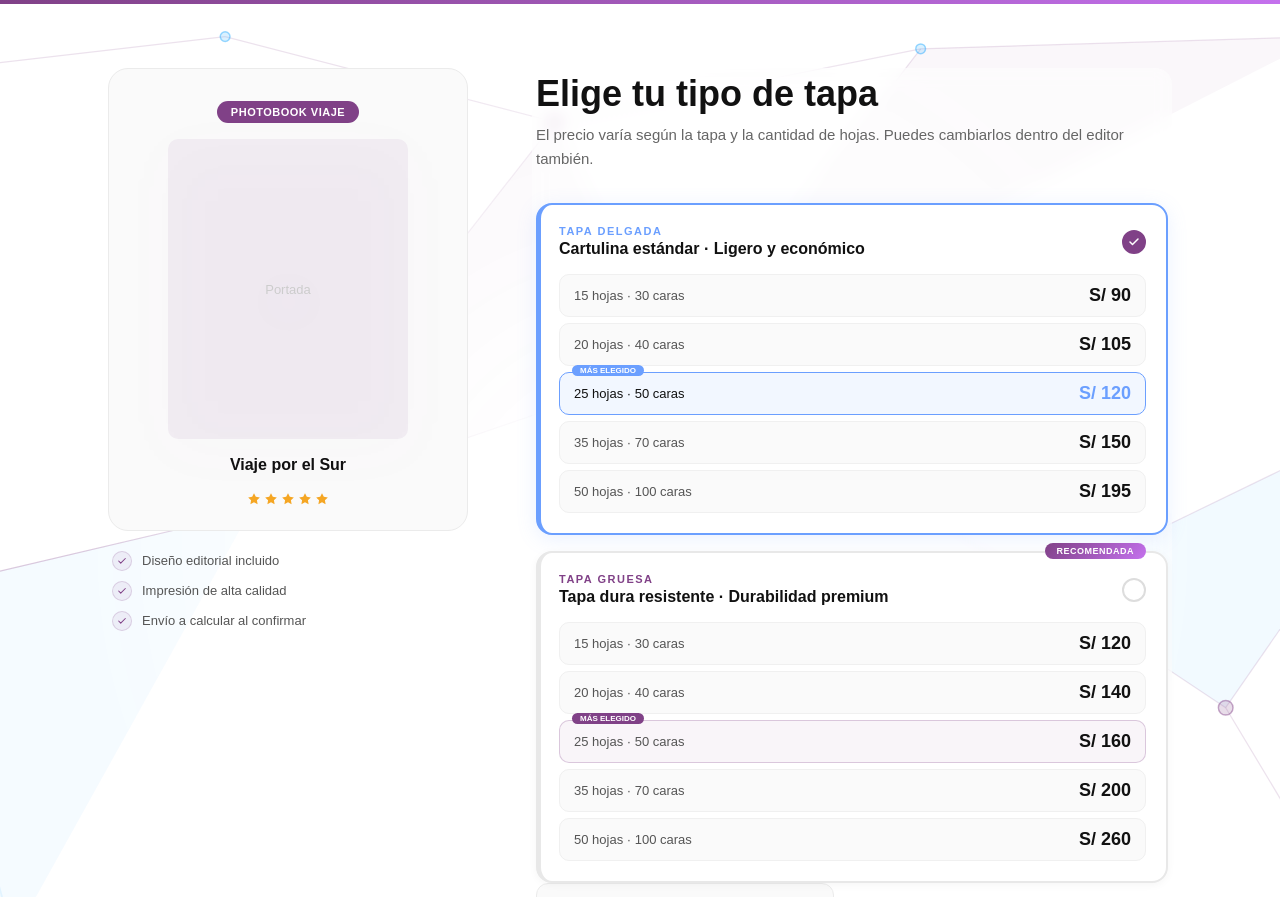
Test: PhotobookConfigurarClient (calcPrice via rendered summary) › selecting the 50-hoja Delgada row reprices to S/ 195
Click the text "50 hojas · 100 caras" below "Cartulina estándar · Ligero y económico": click(633, 492) x1=574 y1=484 x2=692 y2=499
(page scrolled)
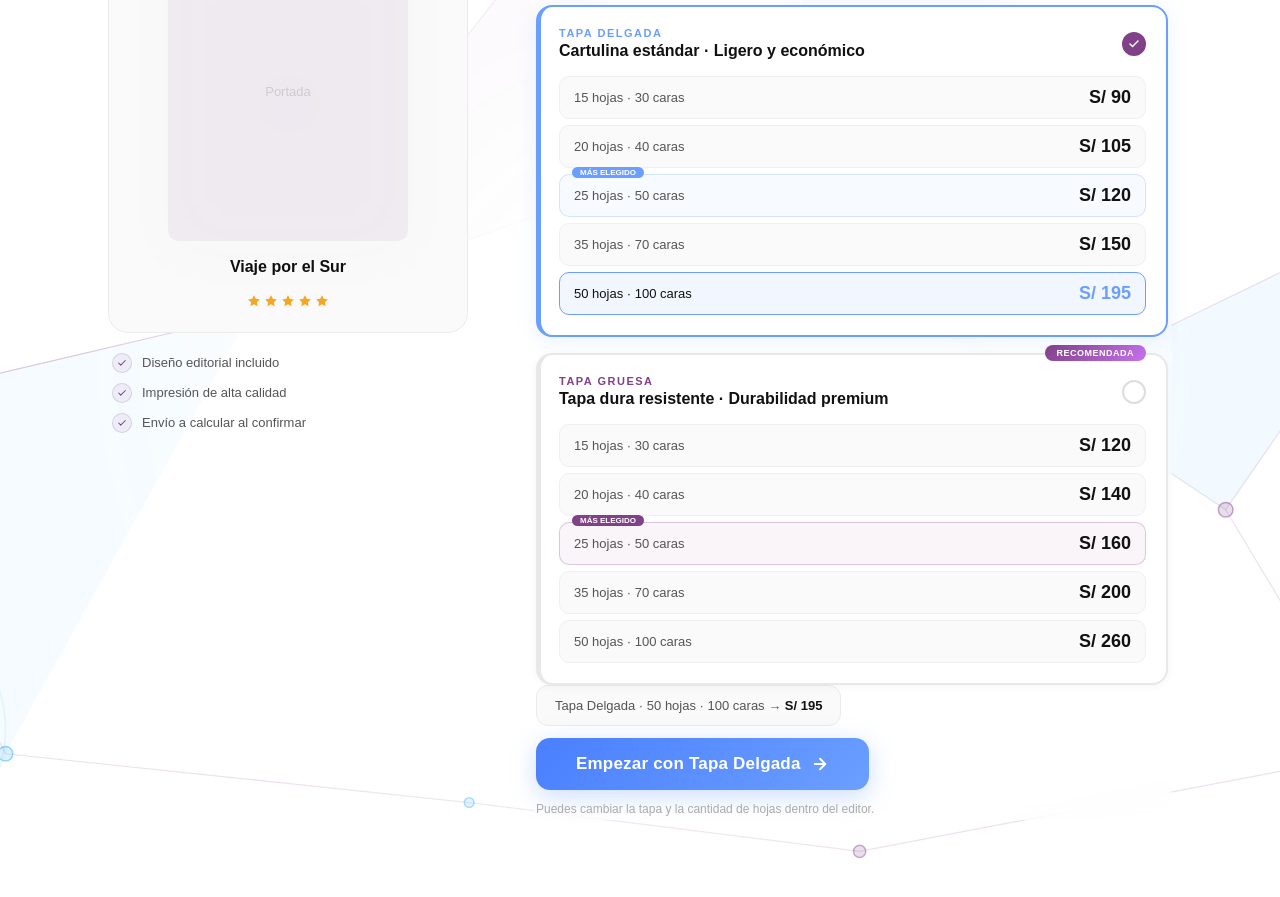
Expected: the text "S/ 195" next to "caras →" is shown, x1=785 y1=698 x2=822 y2=713
